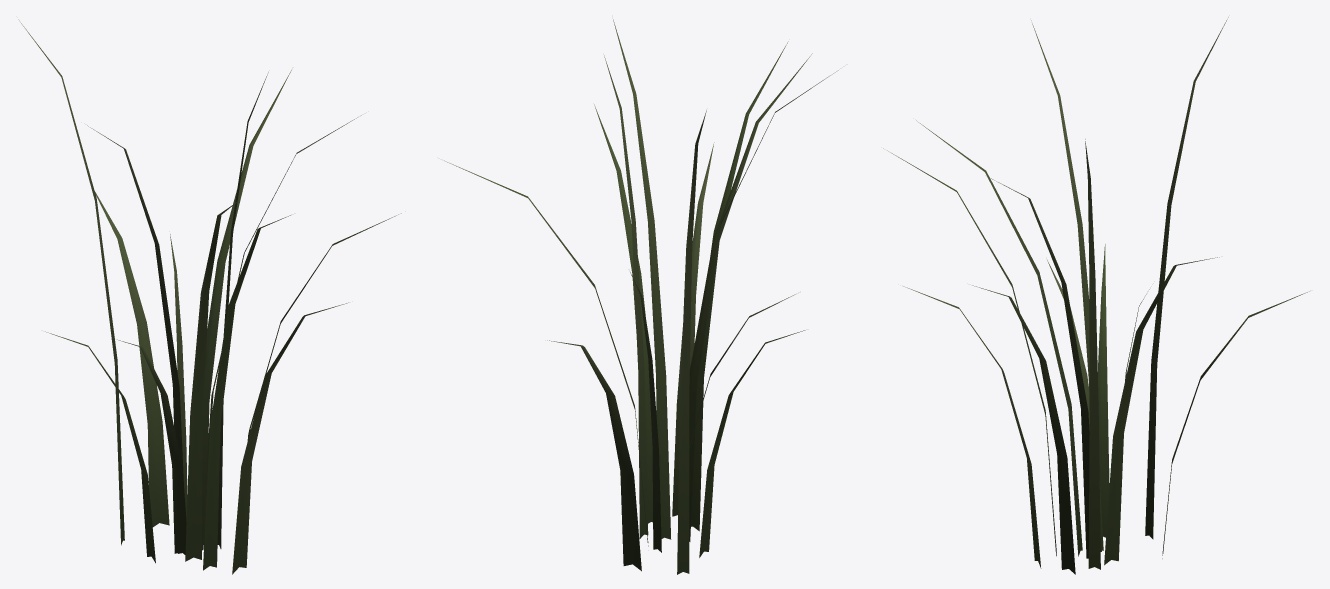
The model's file is grass_fine.glb.
3 views of the same model, side by side, from view 1: azimuth 30°, elevation 25°; view 2: azimuth 150°, elevation 25°; view 3: azimuth 270°, elevation 25° (orthographic). The views are drawn at different scales.
Parts seen in each view (by area): view 1: grass_fine; view 2: grass_fine; view 3: grass_fine.
Part boxes in pixels (x1=…): grass_fine: x1=18, y1=19, x2=401, y2=574; grass_fine: x1=444, y1=19, x2=838, y2=574; grass_fine: x1=883, y1=17, x2=1309, y2=574.
Size of the model in its own units: 0.26 by 0.4038 by 0.324.
